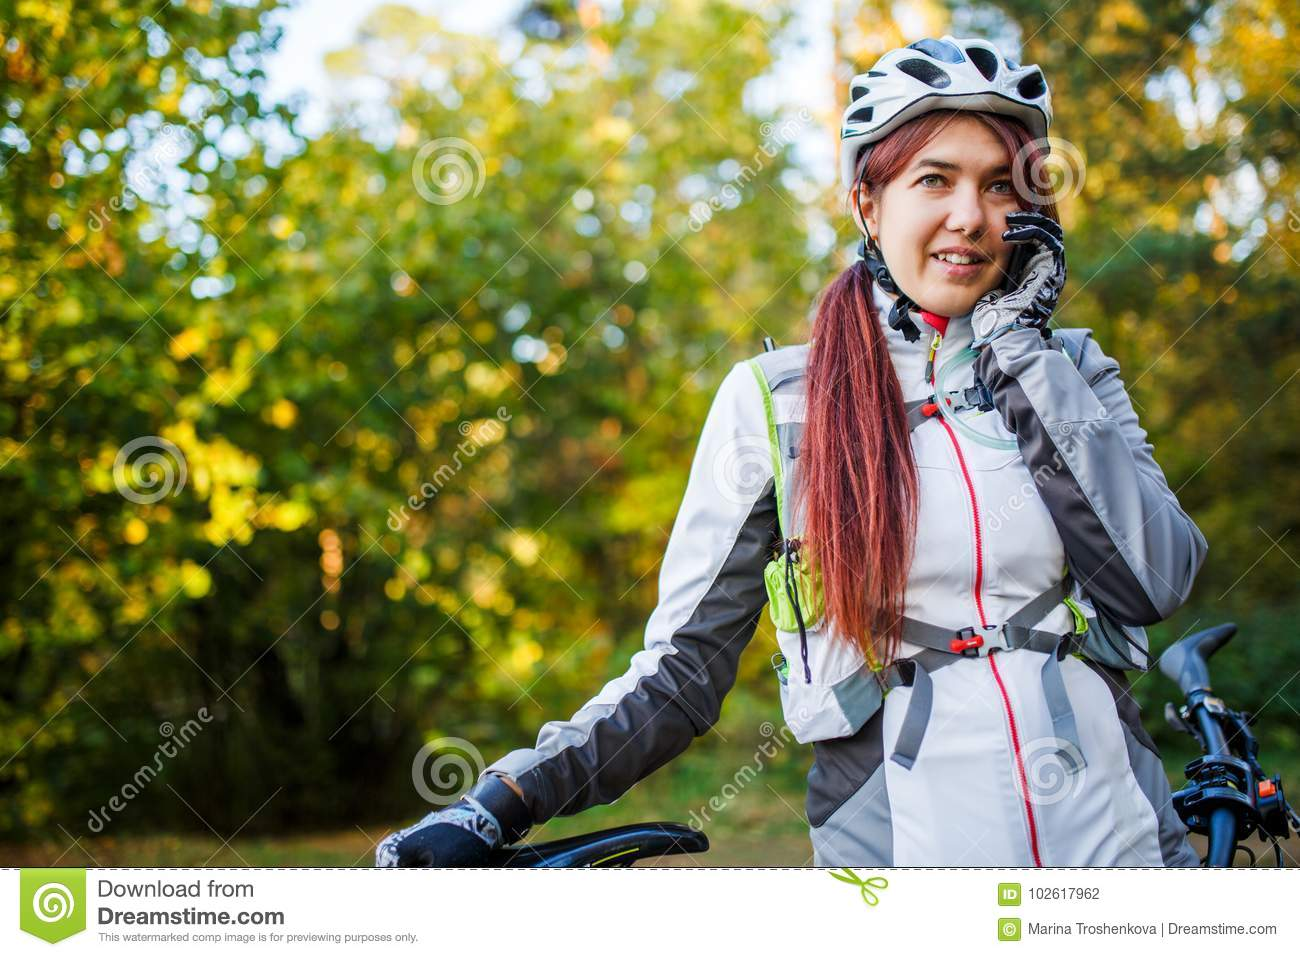phone: (1003, 193, 1044, 294)
talk: (897, 157, 1073, 346)
